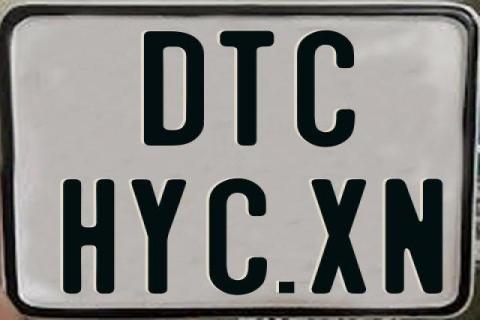C: (208, 178, 272, 296), (297, 31, 358, 150)
D: (142, 31, 208, 148)
H: (61, 177, 113, 293)
N: (385, 177, 446, 295)
T: (219, 29, 276, 147)
X: (311, 177, 372, 295)
Y: (129, 178, 190, 294)
